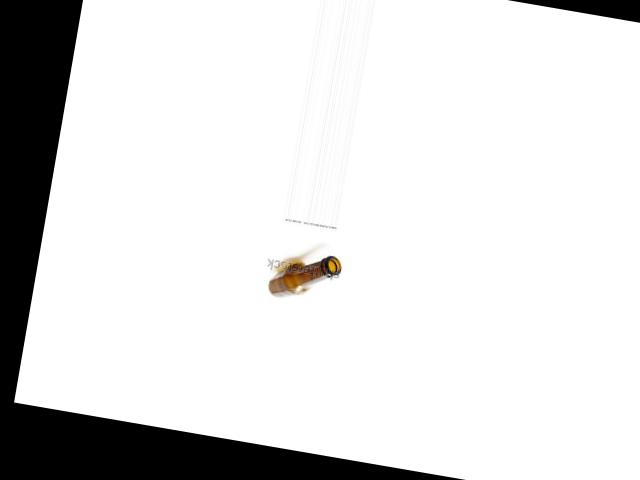beer: (266, 245, 343, 306)
